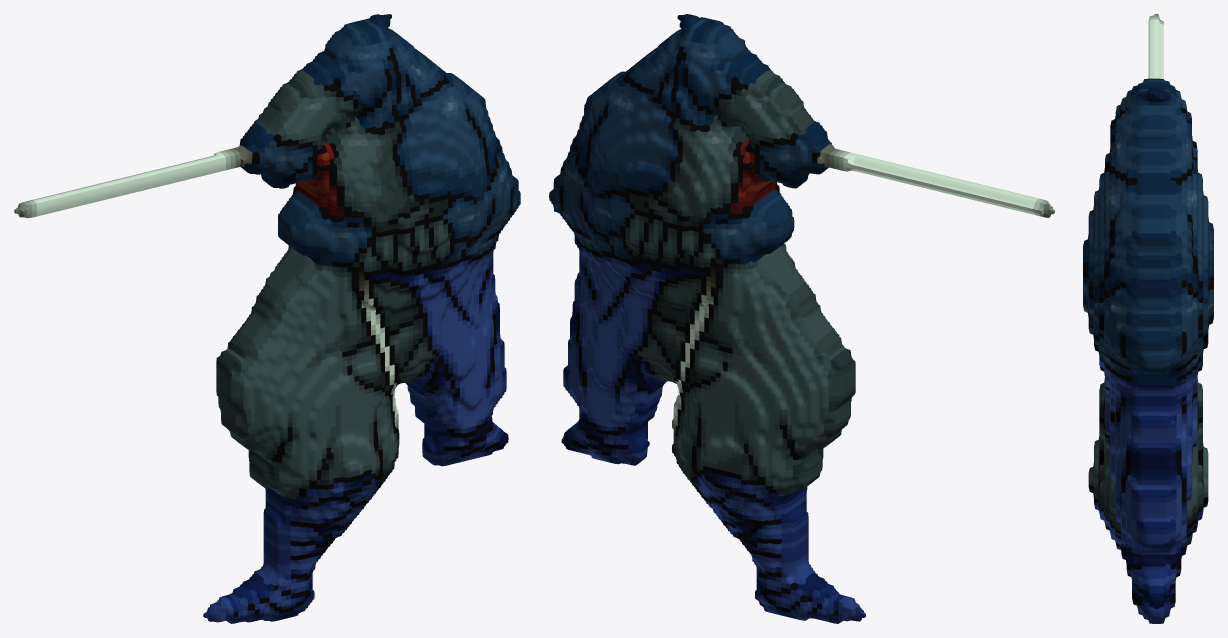
File: Fight_023_2_08.obj
The picture shows the model from 3 angles, left to right: view 1: azimuth 30°, elevation 25°; view 2: azimuth 150°, elevation 25°; view 3: azimuth 270°, elevation 25°; orthographic projection.
Size of the model in its own units: 10.58 by 11.6 by 2.4.
1 material, 1 textured.
